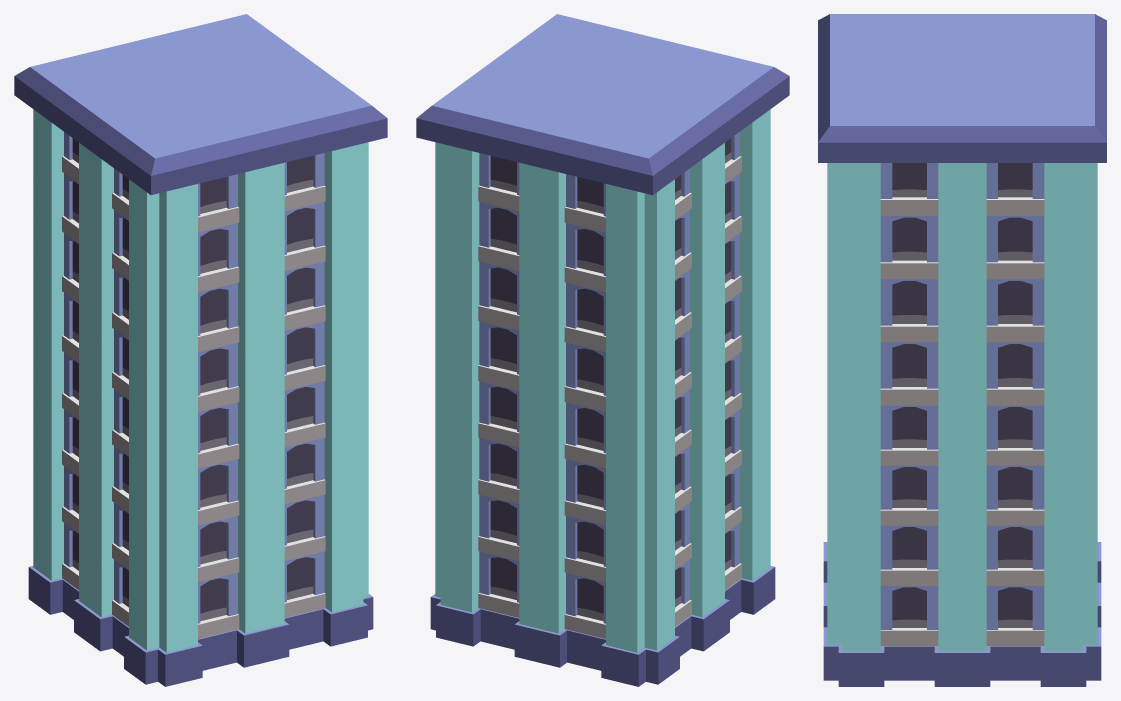
Rendered from building4_b.fbx.
The picture shows the model from 3 angles, left to right: view 1: azimuth 30°, elevation 25°; view 2: azimuth 150°, elevation 25°; view 3: azimuth 270°, elevation 25°; orthographic projection. The views are drawn at different scales.
Parts seen in each view (by area): view 1: pCube3, pCube4; view 2: pCube3, pCube4; view 3: pCube3, pCube4.
Part boxes in pixels (x1,y1,x2,y2): pCube3: (28, 109, 373, 686); pCube4: (14, 14, 387, 195); pCube3: (430, 109, 775, 686); pCube4: (416, 14, 789, 195); pCube3: (823, 163, 1101, 686); pCube4: (818, 14, 1106, 162).
Bounding box in the file's own units: 7.05 × 15.03 × 7.05.
